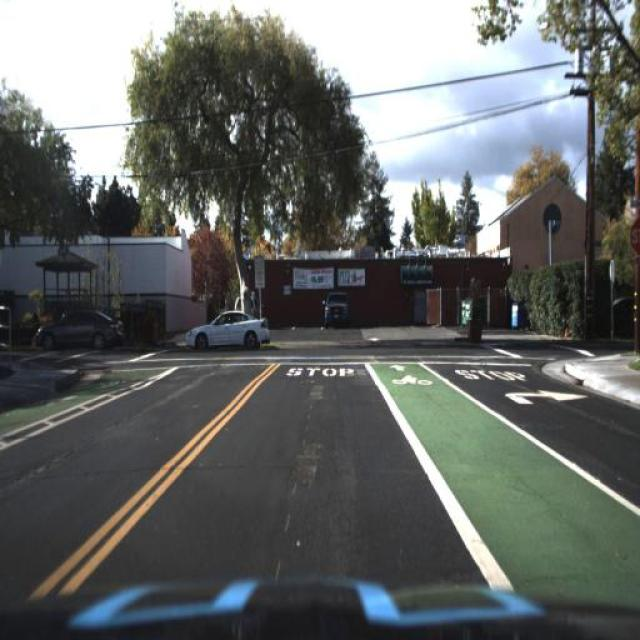car: (179, 299, 272, 361), (33, 302, 128, 359), (318, 287, 358, 333), (229, 294, 262, 321)
